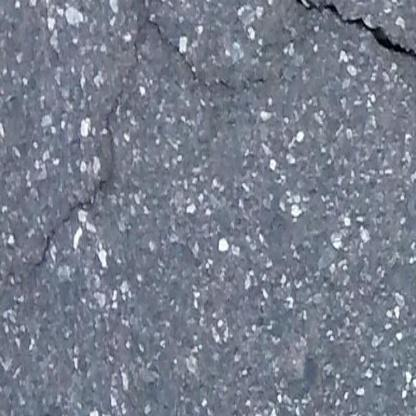Cracks: (284, 0, 416, 73)
